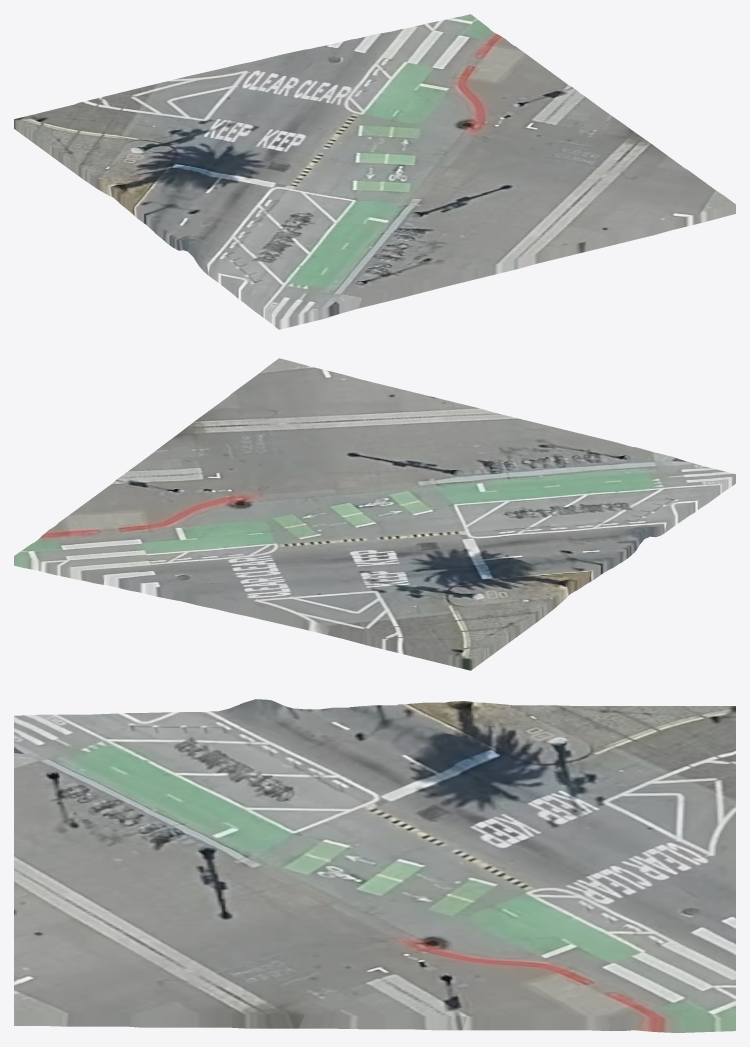
File: z20-167792-405224-h0-yup-uvflip-v3-world.glb
3 views of the same model, one above another, from view 1: azimuth 30°, elevation 25°; view 2: azimuth 150°, elevation 25°; view 3: azimuth 270°, elevation 25° (orthographic). The views are drawn at different scales.
Size of the model in its own units: 30.16 by 1.56 by 30.32.
Materials: 1 (1 with a texture image).
